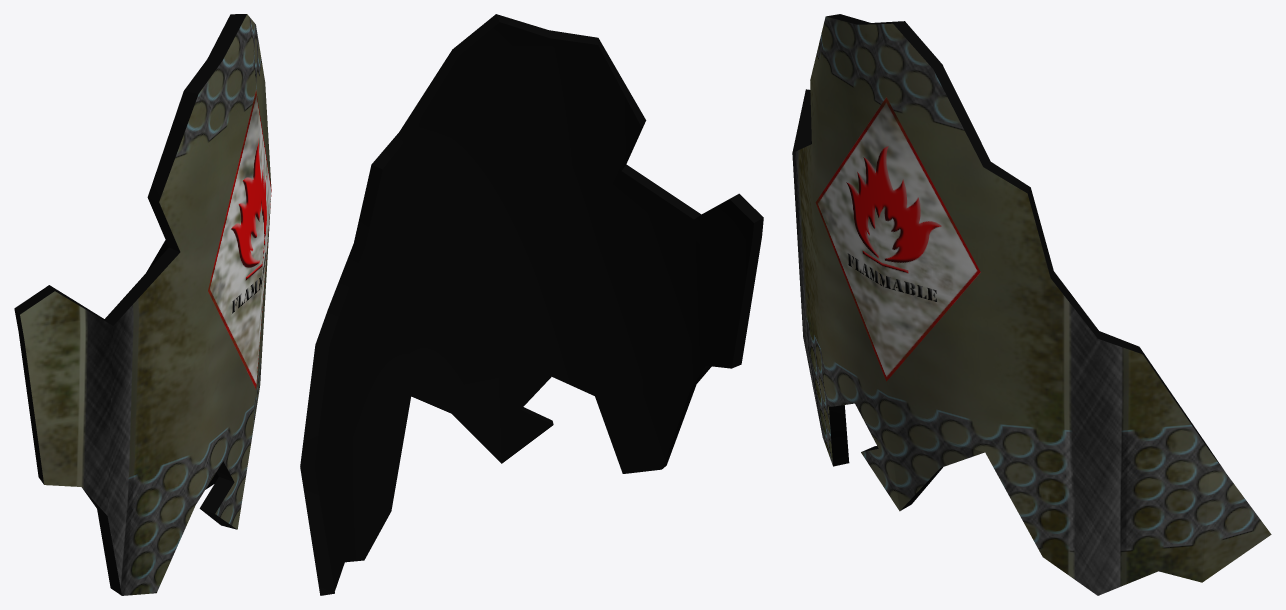
The model's file is Barrel_Fire_Explode_2of5.FBX.
3 renders of one model, left to right at view 1: azimuth 30°, elevation 25°; view 2: azimuth 150°, elevation 25°; view 3: azimuth 270°, elevation 25°, orthographic. The views are drawn at different scales.
Parts seen in each view (by area): view 1: Barrel_Fire_Shard2; view 2: Barrel_Fire_Shard2; view 3: Barrel_Fire_Shard2.
Boxes of the visible parts, box(x1,y1,x2,y2) form: Barrel_Fire_Shard2: box(14, 14, 271, 595); Barrel_Fire_Shard2: box(300, 14, 763, 595); Barrel_Fire_Shard2: box(792, 14, 1271, 595).
Size of the model in its own units: 0.5402 by 0.6585 by 0.8247.
1 material, 1 textured.
